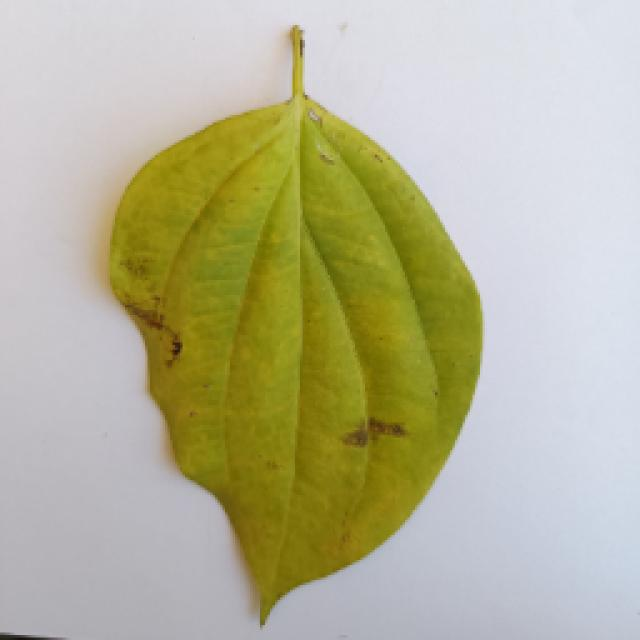slow-decline: (70, 35, 495, 623)
